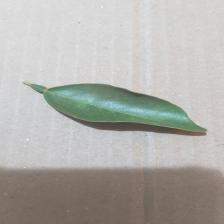greening: (18, 77, 213, 137)
